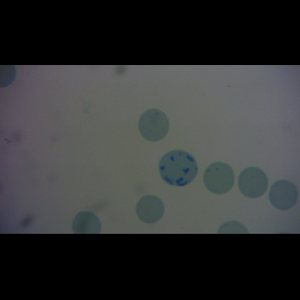aggregate reticulocyte: (157, 149, 199, 187)
erythrocyte: (236, 166, 269, 199), (267, 178, 300, 211), (135, 194, 166, 224)
punctate reticulocyte: (202, 161, 236, 195), (137, 108, 170, 142)
